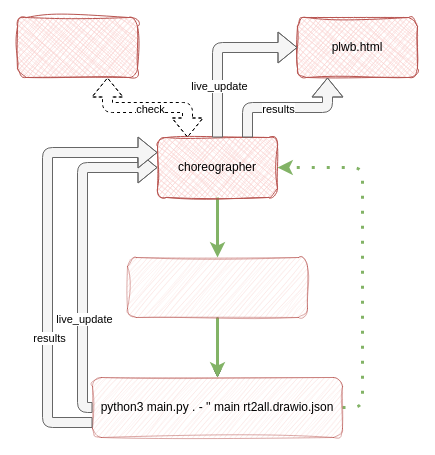
The diagram is 435 pixels wide and 455 high, and some of its shapes have lost their labels. Each missing label, with the centre of its shape:
"das2json node das2json.js rt2all.drawio" goes at [217,287].
"drawio" goes at [77,47].
